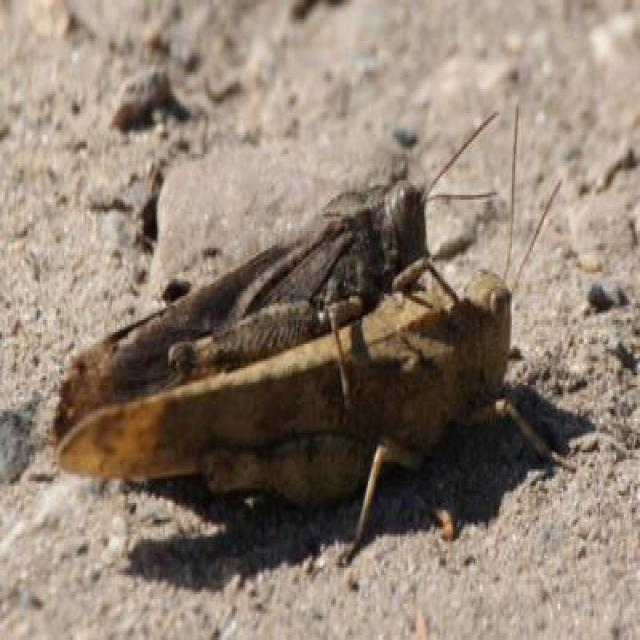antennae: (512, 177, 563, 293), (503, 107, 518, 278)
body: (181, 268, 507, 491)
insect: (39, 108, 584, 570)
legs: (334, 442, 420, 564), (471, 396, 579, 476)
wings: (54, 334, 381, 492)
